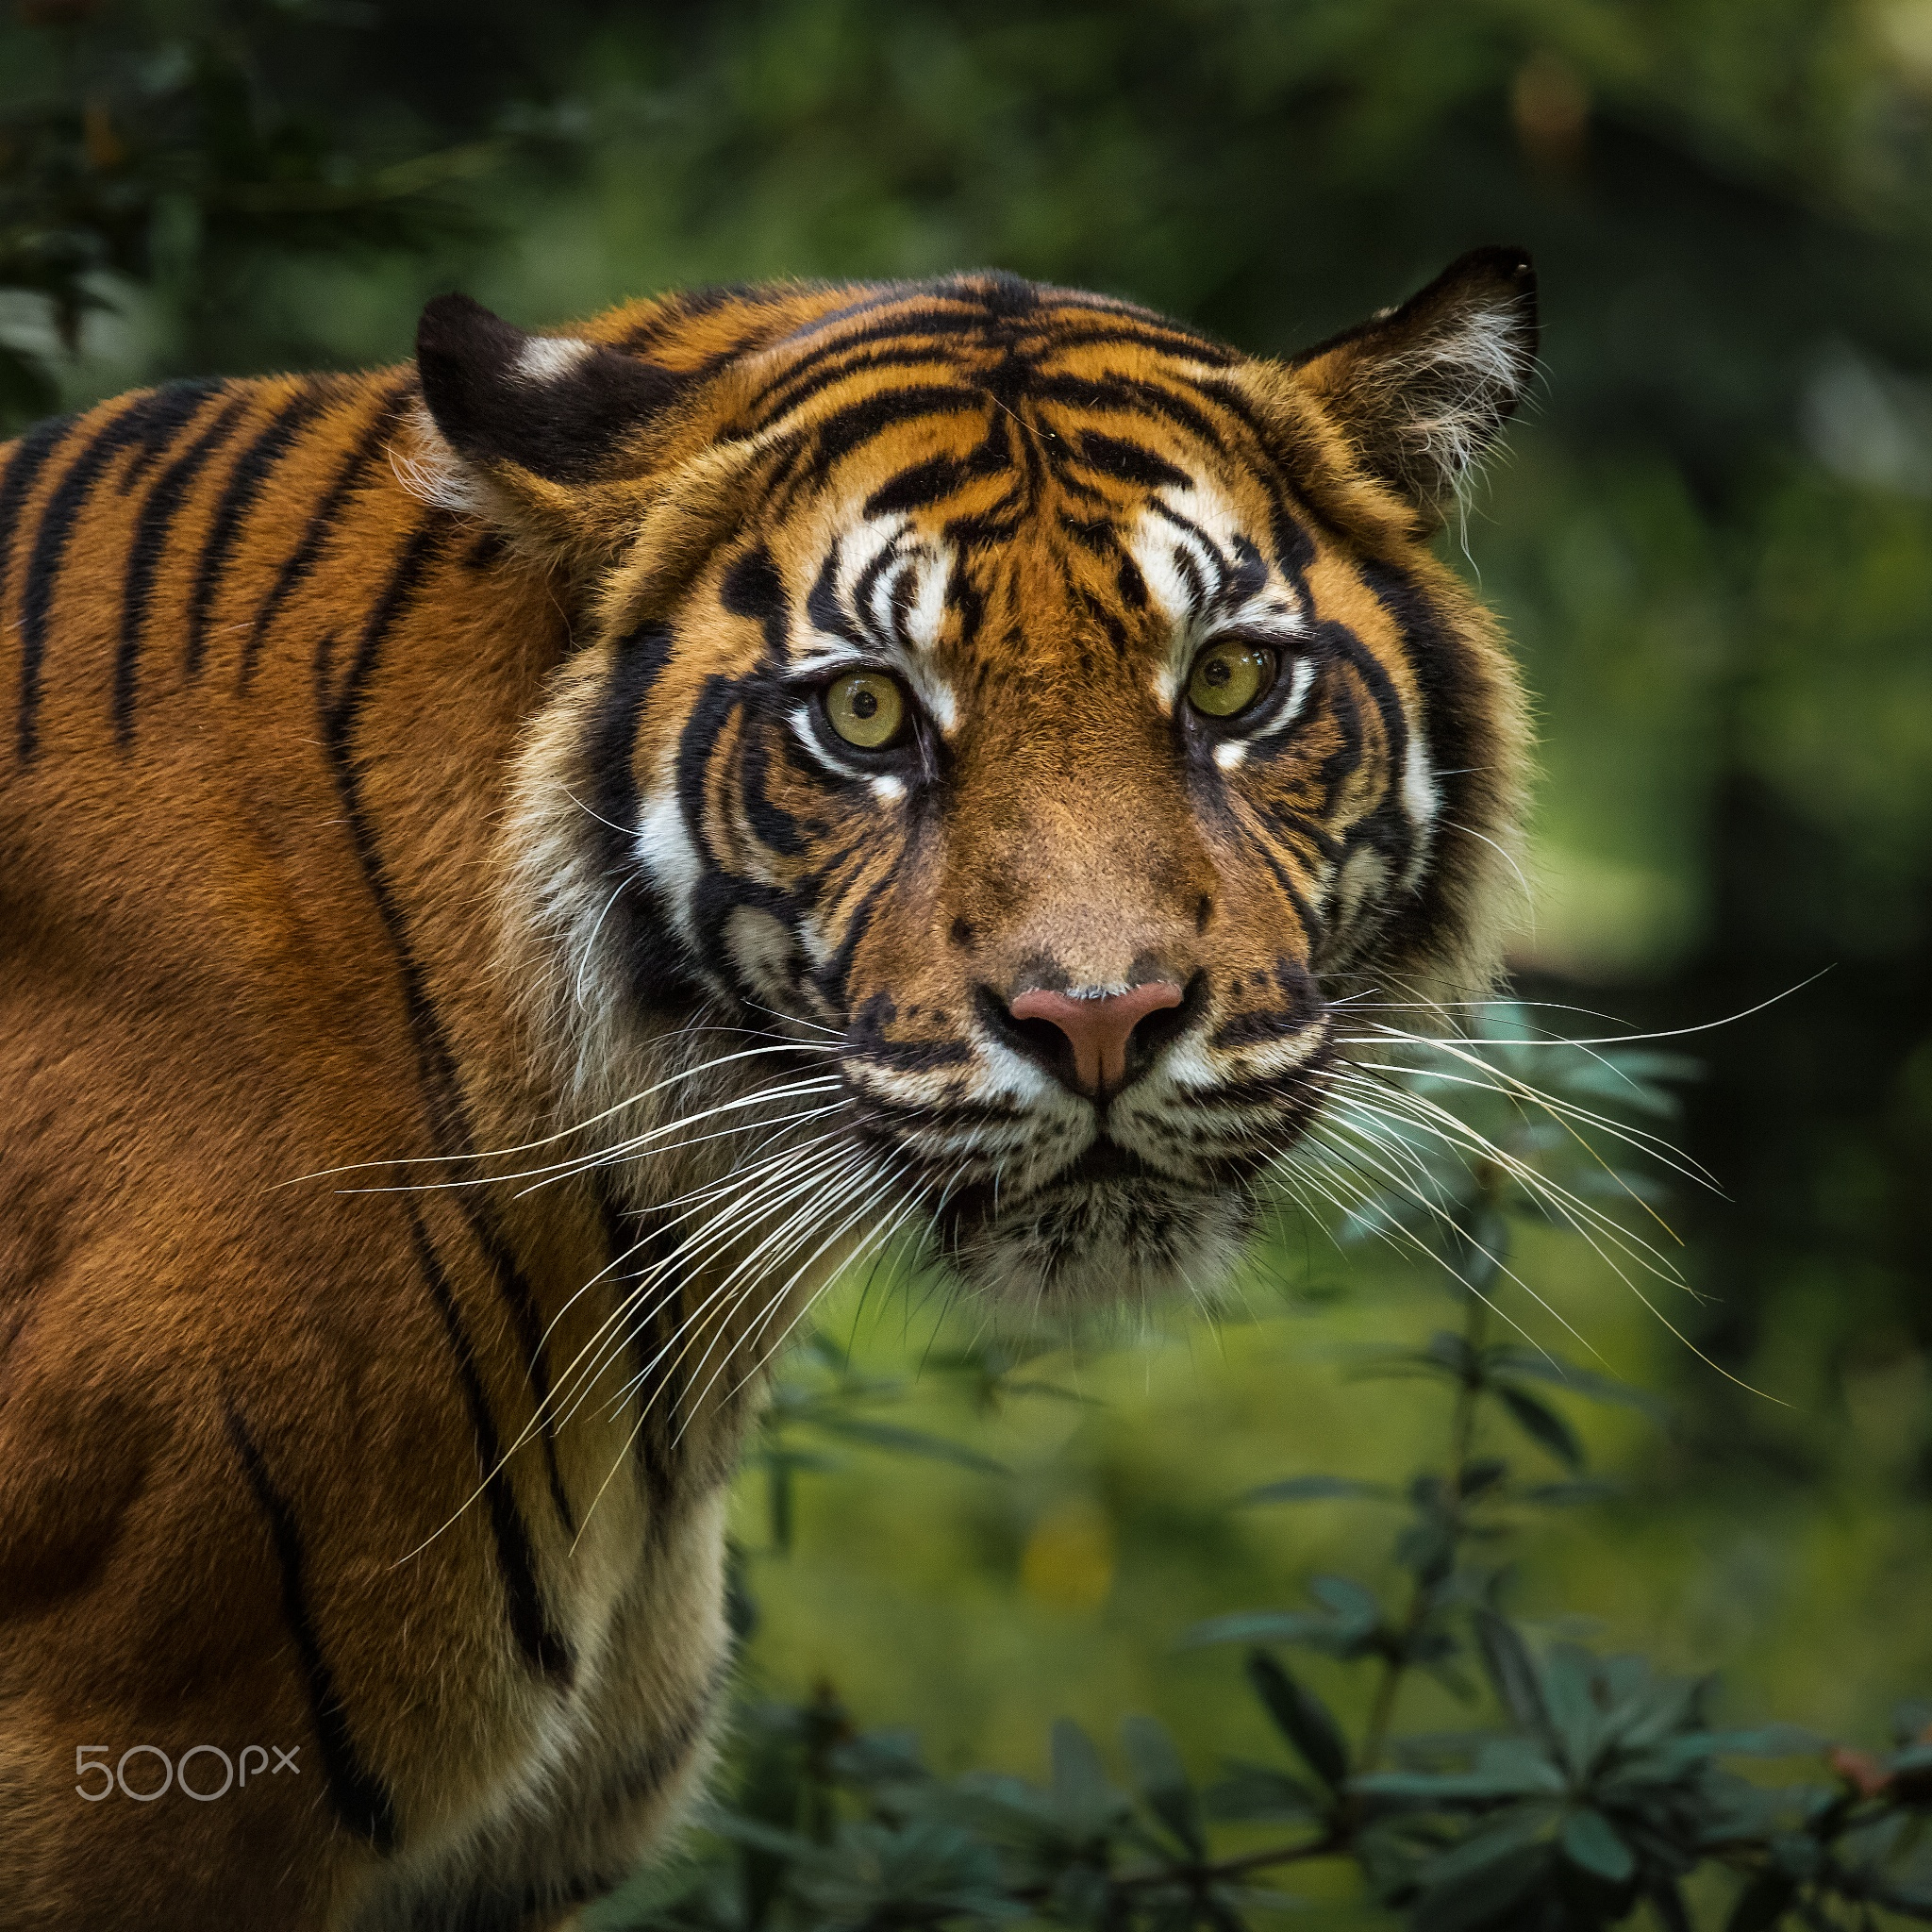tiger: (35, 228, 1571, 1663)
